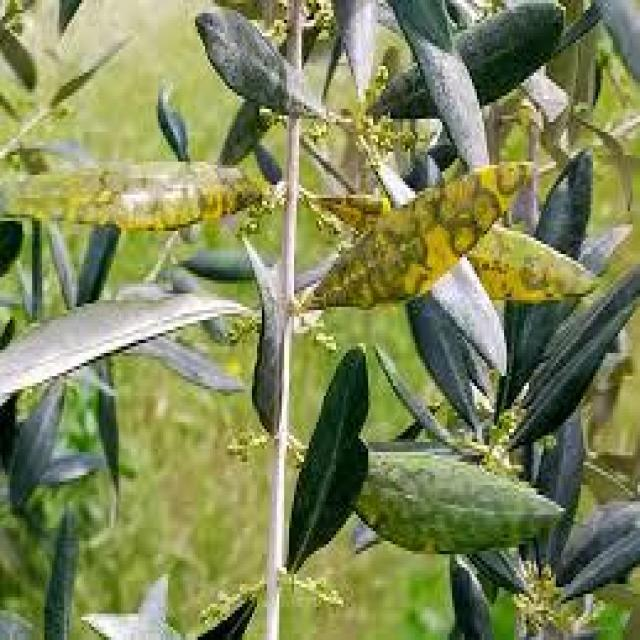Peacock Eye: (311, 165, 529, 307), (5, 162, 264, 231), (356, 462, 556, 548)
